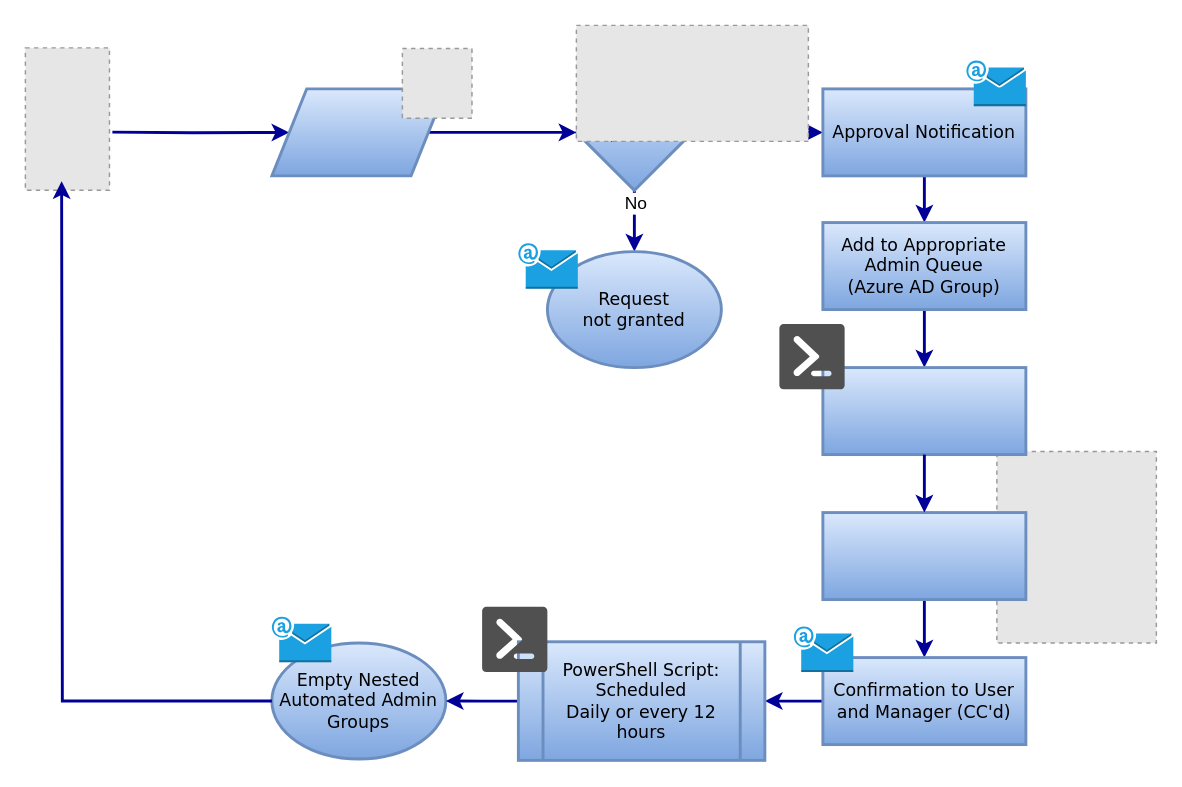
Some shapes in this 1182 by 787 pixel diagram are drawn without their labels. Grey dashed boxes stand in for pictures. The centre of each missing label's shape, as x and y in pixels:
"Add user to the requested admin group" goes at point (924, 555).
"PowerShell Script: Scheduled for FIVE Minutes" goes at point (924, 410).
"SharePoint Request Form" goes at point (358, 132).
